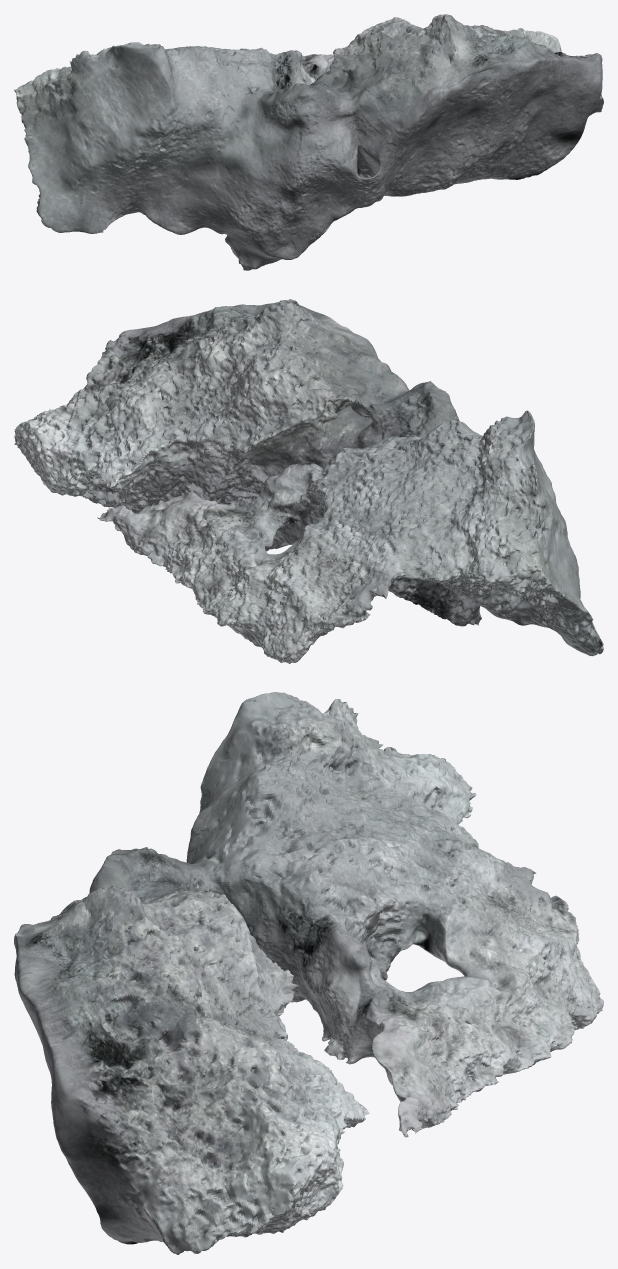
The picture shows the model from 3 angles, top to bottom: view 1: azimuth 30°, elevation 25°; view 2: azimuth 150°, elevation 25°; view 3: azimuth 270°, elevation 25°; orthographic projection. The views are drawn at different scales.
Bounding box in the file's own units: 18 × 7.32 × 11.46.
Materials: 1 (1 with a texture image).
